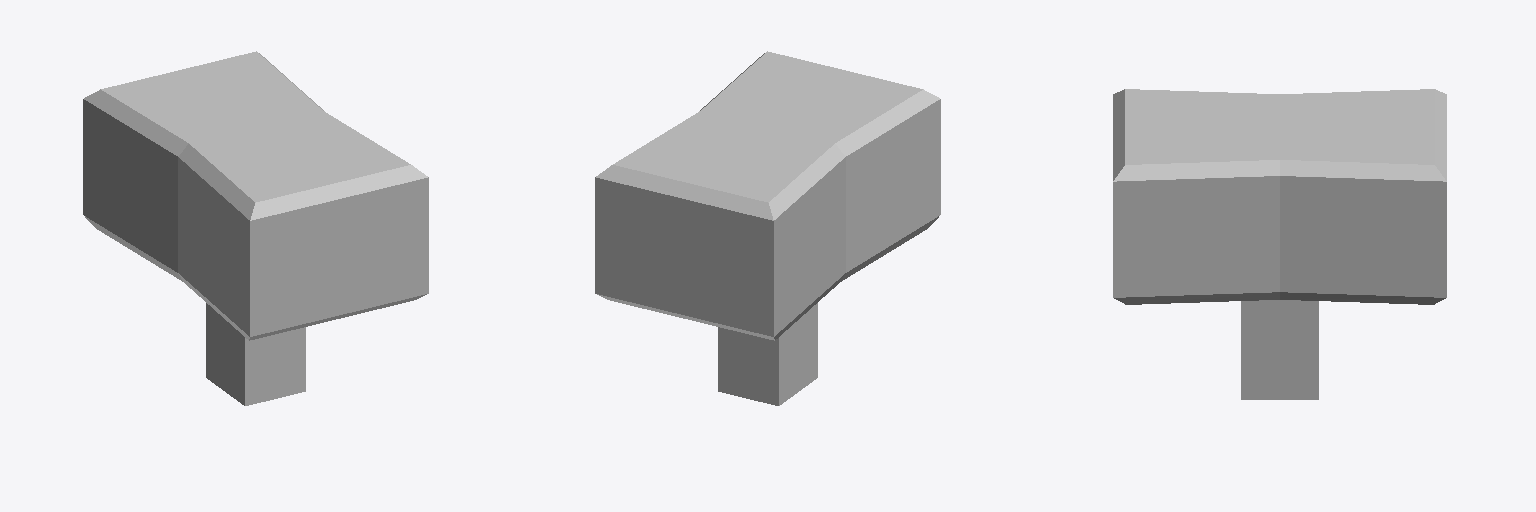
File: slider_2.obj
The picture shows the model from 3 angles: view 1: azimuth 30°, elevation 25°; view 2: azimuth 150°, elevation 25°; view 3: azimuth 270°, elevation 25°; orthographic projection.
Visible parts, largest first — view 1: Cube.059; view 2: Cube.059; view 3: Cube.059.
Part boxes in pixels (bbox=[...]): Cube.059: bbox=[83, 51, 428, 405]; Cube.059: bbox=[595, 51, 940, 405]; Cube.059: bbox=[1113, 89, 1446, 399].
Size of the model in its own units: 0.3507 by 0.4837 by 0.5675.